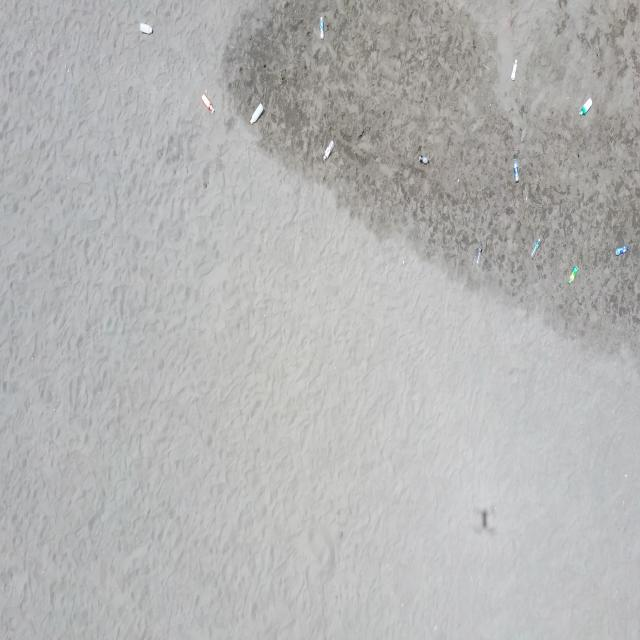plastic-bottle: (249, 101, 266, 126), (578, 97, 593, 117), (201, 93, 215, 113), (323, 137, 335, 160), (568, 265, 579, 286), (139, 22, 154, 37), (614, 244, 631, 257), (530, 238, 540, 260), (510, 59, 519, 83), (512, 157, 520, 184), (318, 14, 325, 42), (418, 153, 431, 167), (476, 244, 484, 265)
